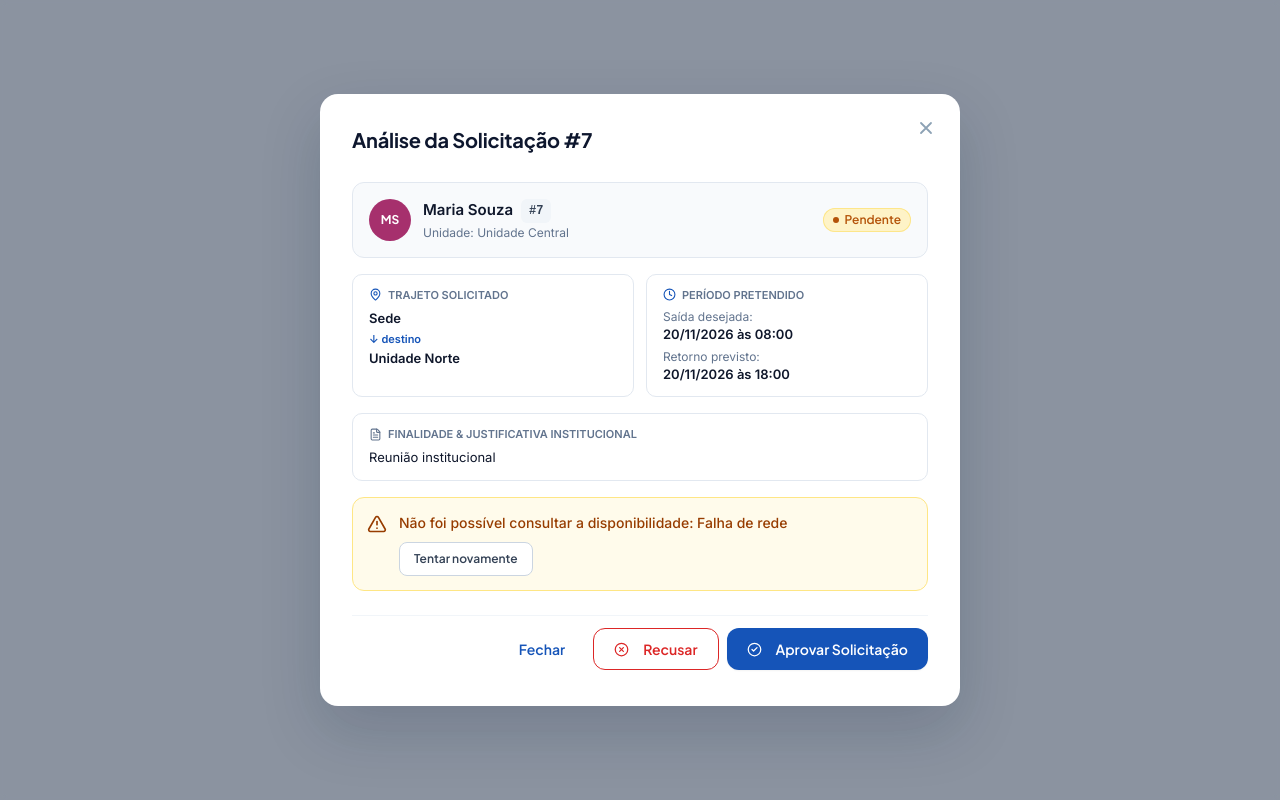
Test: ModalAnaliseSolicitacao - disponibilidade de veículos › mostra o erro, mantém as ações e permite tentar novamente
Expected: the text "Não foi possível consultar a disponibilidade: Falha de rede" is shown, left=399, top=514, right=788, bottom=531
Expected: the button "Aprovar Solicitação" is enabled, left=726, top=628, right=928, bottom=670
Click the button "Tentar novamente": (466, 559) left=399, top=542, right=533, bottom=576
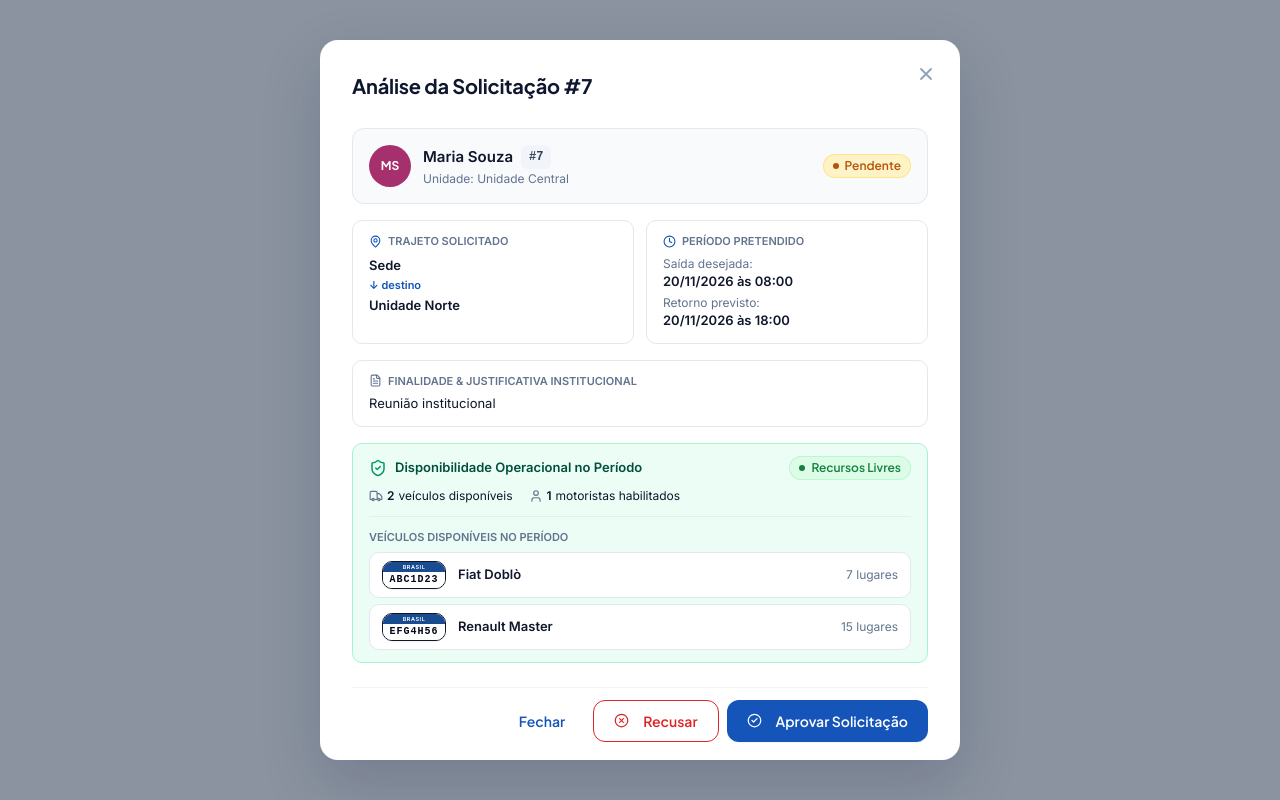
Result: the text "Fiat Doblò" is shown at left=458, top=565, right=521, bottom=584
Result: the text "Não foi possível consultar a disponibilidade" is gone
Result: the button "Tentar novamente" is gone
